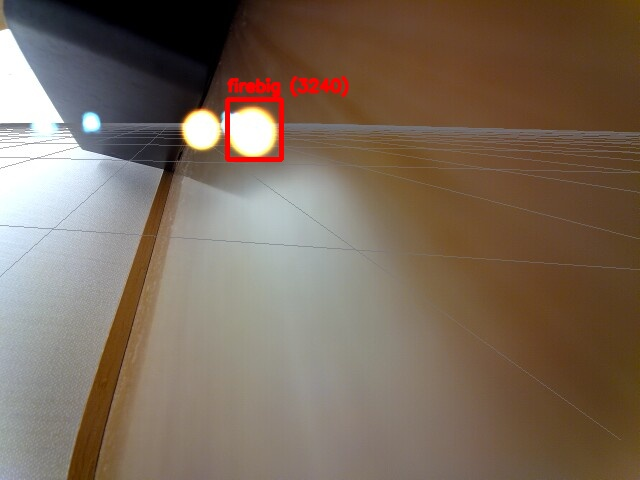firebig: (227, 99, 281, 159)
